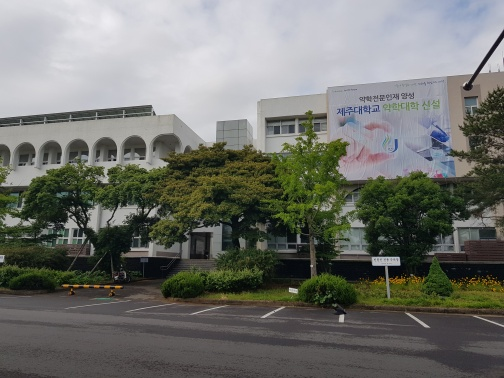Main Building of University: (14, 78, 491, 278), (17, 135, 157, 165)
